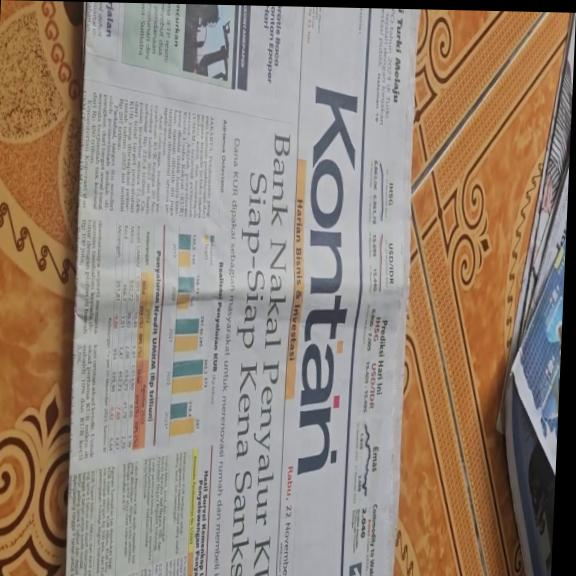Kertas: (71, 8, 419, 576)
